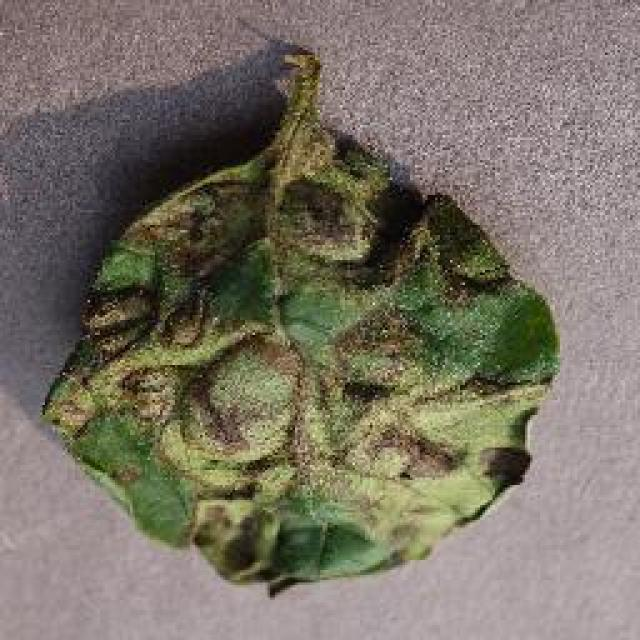Potato___Late_blight: (34, 43, 561, 606)
